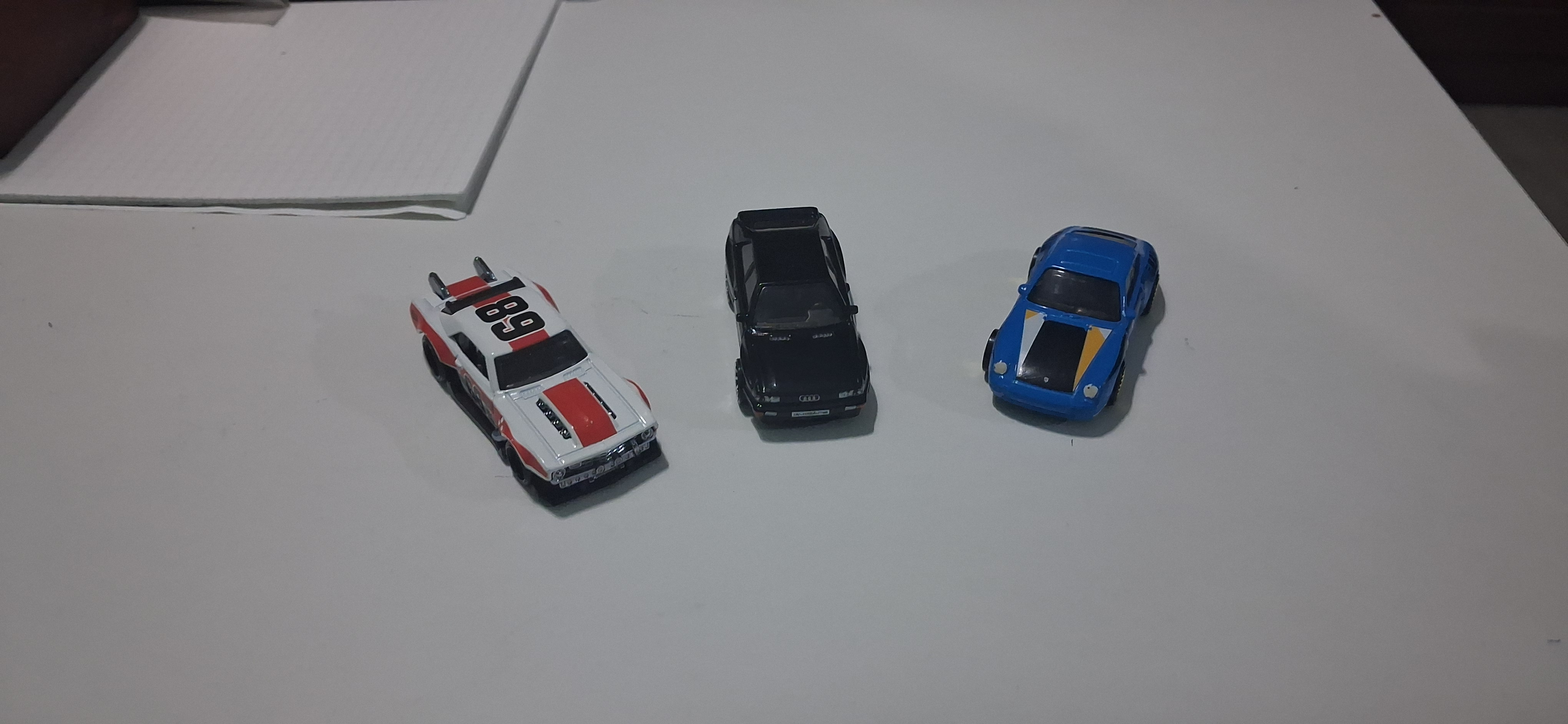Audi_Quattro: (679, 168, 911, 475)
Camaro: (364, 247, 677, 540)
Porsche_Carrera: (964, 185, 1184, 489)
